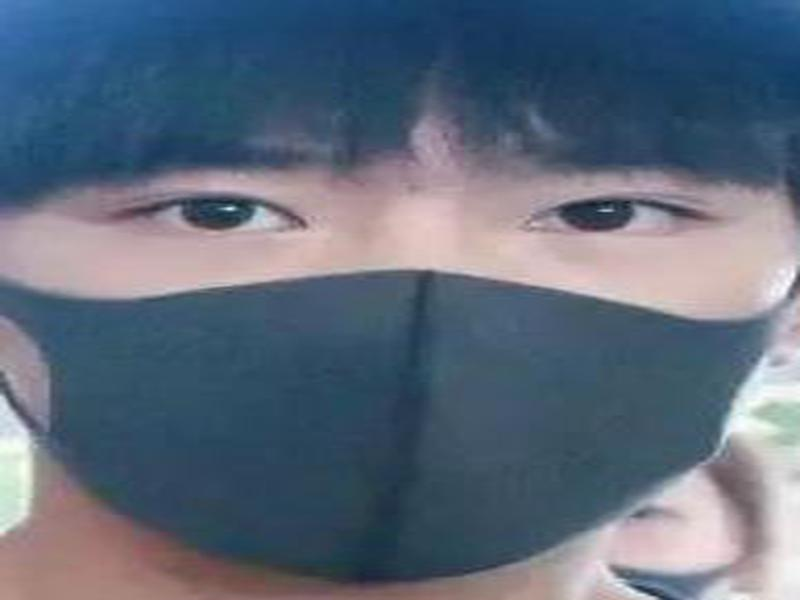with_mask: (1, 2, 799, 591)
